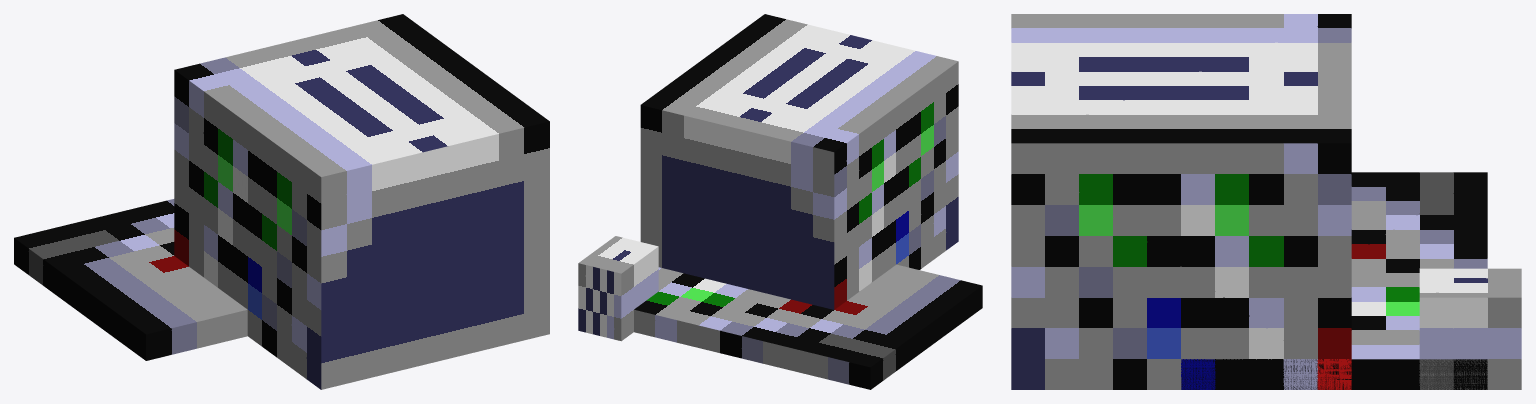
Rendered from hitek_tile_036.gltf.
3 renders of one model, left to right at view 1: azimuth 30°, elevation 25°; view 2: azimuth 150°, elevation 25°; view 3: azimuth 270°, elevation 25°, orthographic. The views are drawn at different scales.
Parts seen in each view (by area): view 1: hitek_tile_036; view 2: hitek_tile_036; view 3: hitek_tile_036.
Part boxes in pixels (bbox=[...]): hitek_tile_036: bbox=[14, 14, 549, 389]; hitek_tile_036: bbox=[578, 14, 982, 389]; hitek_tile_036: bbox=[1011, 14, 1521, 389].
Size of the model in its own units: 8.67 by 5.33 by 10.
1 material, 1 textured.
